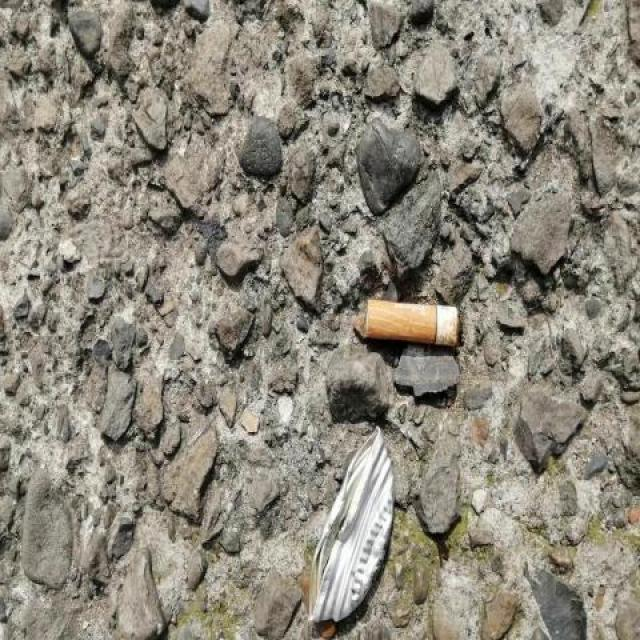non-organic waste: (361, 293, 466, 357)
